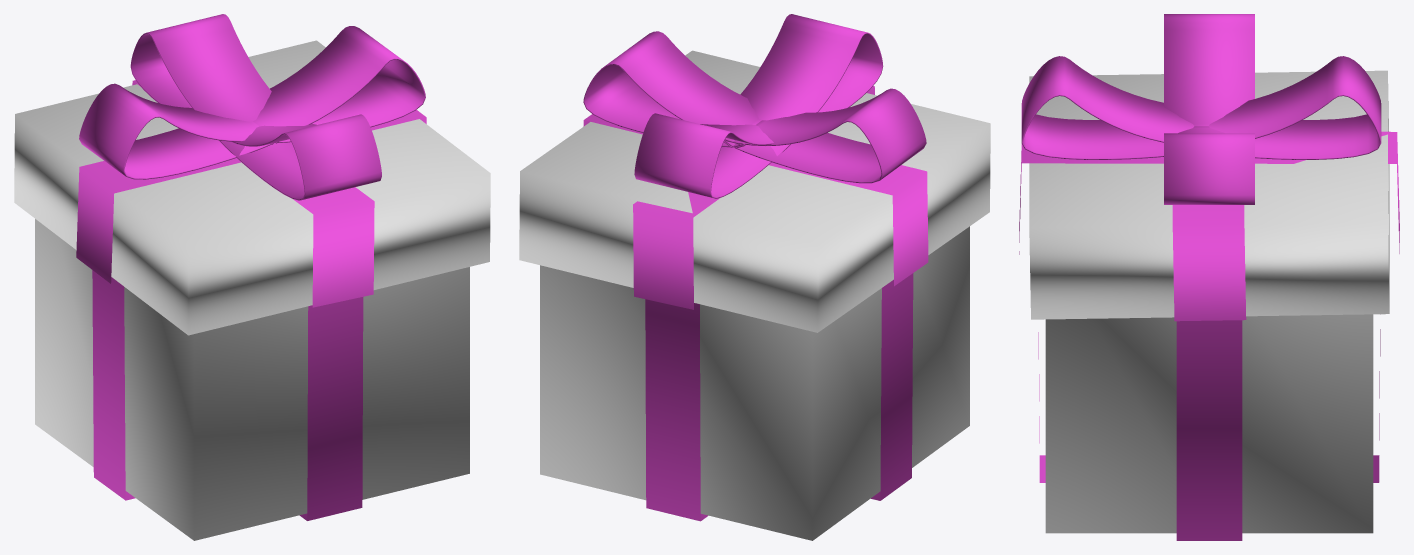
The picture shows the model from 3 angles, left to right: view 1: azimuth 30°, elevation 25°; view 2: azimuth 150°, elevation 25°; view 3: azimuth 270°, elevation 25°; orthographic projection. The views are drawn at different scales.
Visible parts, largest first — view 1: Cube_Material_0, Cube.002_Material_0, BezierCurve_Material.001_0, BezierCurve.001_Material.001_0, Cube.004_Material.001_0, Cube.005_Material.001_0, Cube.001_Material.001_0, Cube.003_Material.001_0; view 2: Cube_Material_0, Cube.002_Material_0, BezierCurve_Material.001_0, BezierCurve.001_Material.001_0, Cube.004_Material.001_0, Cube.001_Material.001_0, Cube.005_Material.001_0, Cube.003_Material.001_0; view 3: Cube_Material_0, Cube.002_Material_0, BezierCurve.001_Material.001_0, BezierCurve_Material.001_0, Cube.001_Material.001_0, Cube.003_Material.001_0, Cube.005_Material.001_0, Cube.004_Material.001_0.
Part boxes in pixels (bbox=[...]): Cube_Material_0: bbox=[35, 219, 469, 540]; Cube.002_Material_0: bbox=[14, 40, 490, 335]; BezierCurve_Material.001_0: bbox=[79, 26, 425, 179]; BezierCurve.001_Material.001_0: bbox=[130, 14, 381, 200]; Cube.004_Material.001_0: bbox=[299, 297, 363, 520]; Cube.005_Material.001_0: bbox=[132, 80, 374, 307]; Cube.001_Material.001_0: bbox=[92, 270, 135, 500]; Cube.003_Material.001_0: bbox=[76, 110, 426, 283]; Cube_Material_0: bbox=[540, 226, 969, 540]; Cube.002_Material_0: bbox=[519, 50, 990, 332]; BezierCurve_Material.001_0: bbox=[583, 31, 926, 183]; BezierCurve.001_Material.001_0: bbox=[634, 14, 883, 198]; Cube.004_Material.001_0: bbox=[645, 299, 707, 521]; Cube.001_Material.001_0: bbox=[871, 273, 913, 500]; Cube.005_Material.001_0: bbox=[633, 86, 874, 309]; Cube.003_Material.001_0: bbox=[583, 114, 928, 286]; Cube_Material_0: bbox=[1045, 314, 1373, 533]; Cube.002_Material_0: bbox=[1029, 70, 1389, 319]; BezierCurve.001_Material.001_0: bbox=[1021, 56, 1381, 159]; BezierCurve_Material.001_0: bbox=[1164, 14, 1254, 204]; Cube.001_Material.001_0: bbox=[1176, 320, 1242, 540]; Cube.003_Material.001_0: bbox=[1172, 205, 1246, 321]; Cube.005_Material.001_0: bbox=[1019, 131, 1399, 254]; Cube.004_Material.001_0: bbox=[1038, 329, 1380, 482].
Size of the model in its own units: 2.3 by 2.65 by 2.32.
